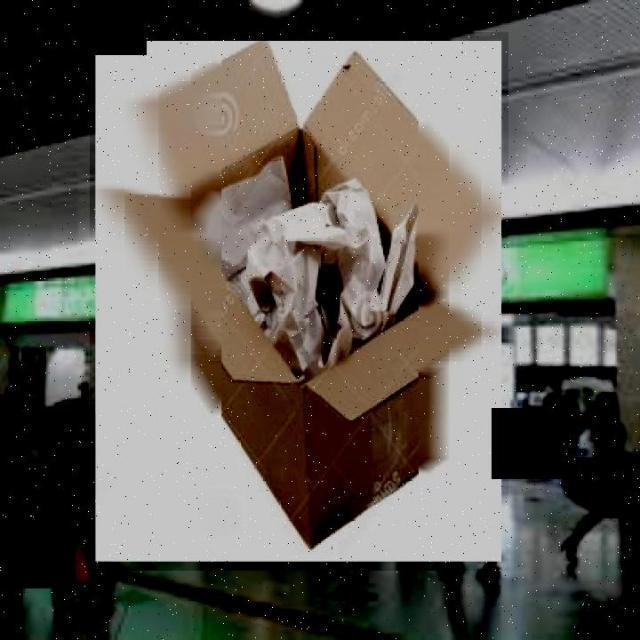box: (90, 32, 508, 571)
